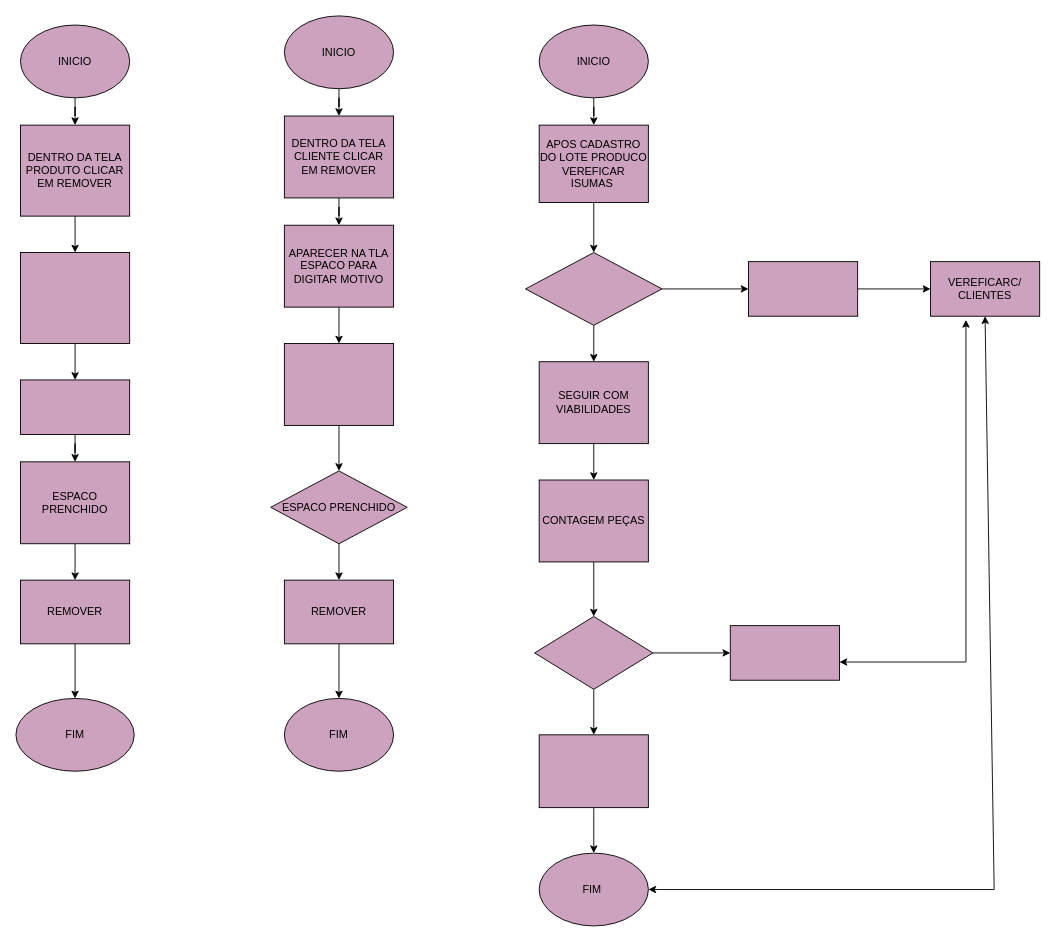
Some shapes in this 1056 by 942 pixel diagram are drawn without their labels. Here are the shapes that lost their labels. From the top down, the box of each, then its label:
(20, 252, 130, 344): APARECER NA TELA ESPACO PARA DIGITAR MAIS
(525, 252, 662, 325): QUANTIDADE DE MATERIAIS CORRETO
(748, 261, 858, 316): INDICADOR DE FALTA DE MATERIAIS APARECE
(283, 343, 394, 425): DIGITAR O MOTIVO
(20, 379, 130, 435): DIGITAR MOTIVO
(534, 616, 653, 689): QUANTIDADE DE PEÇAS
(729, 625, 839, 680): INDICADOR FDE FALTA DE PEÇAS
(538, 734, 648, 808): SEGUIR C/ PRODUCAO
